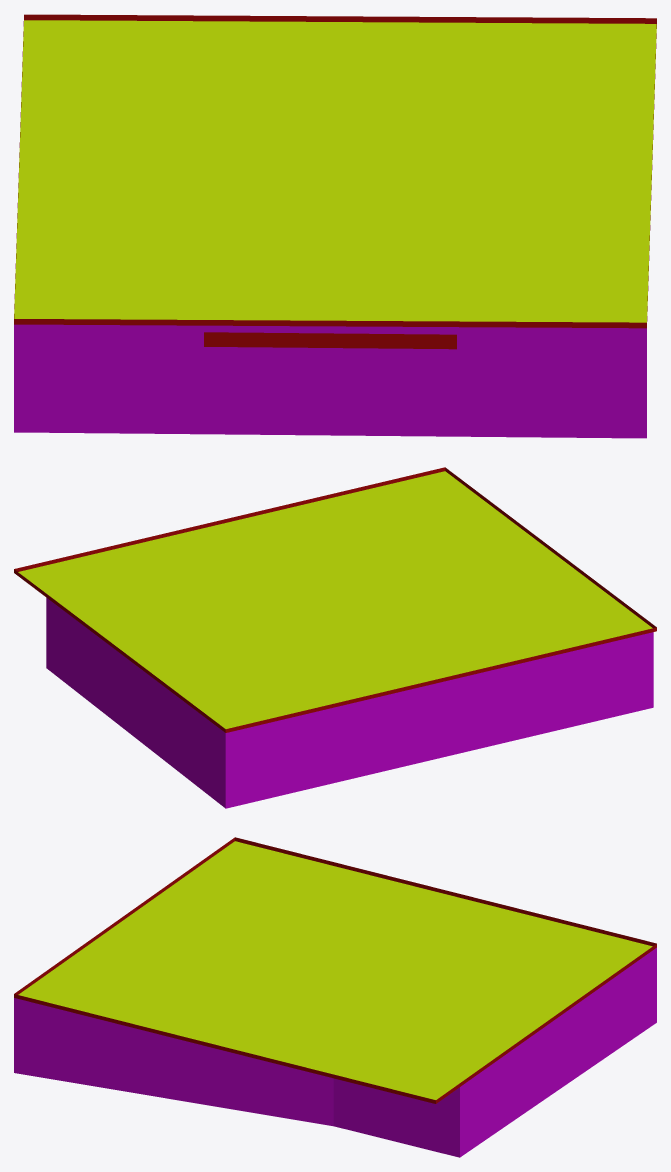
The model's file is bgj_122.glb.
3 renders of one model, top to bottom at view 1: azimuth 30°, elevation 25°; view 2: azimuth 150°, elevation 25°; view 3: azimuth 270°, elevation 25°, orthographic. The views are drawn at different scales.
Visible parts, largest first — view 1: bgj_122; view 2: bgj_122; view 3: bgj_122.
Part boxes in pixels (<box>): bgj_122: <box>14,14,656,438</box>; bgj_122: <box>14,467,656,808</box>; bgj_122: <box>14,837,656,1157</box>.
Size of the model in its own units: 51.05 by 7.15 by 52.74.
